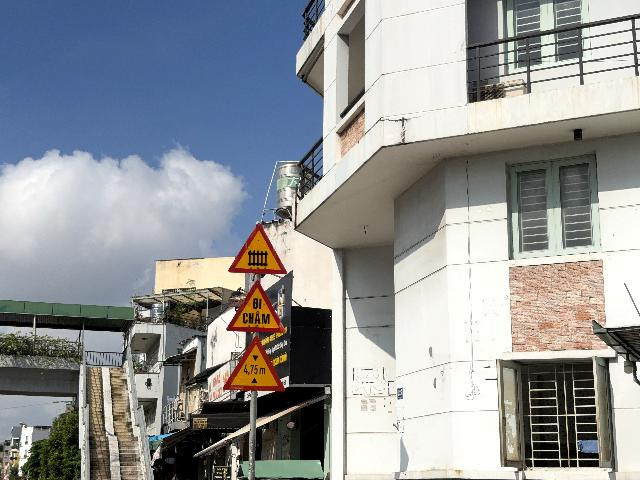chieu-cao-tinh-khong-thuc-te: (222, 335, 285, 392)
di-cham: (226, 280, 287, 333)
noi-giao-nhau-voi-duong-sat-co-rao-chan: (228, 223, 287, 275)
